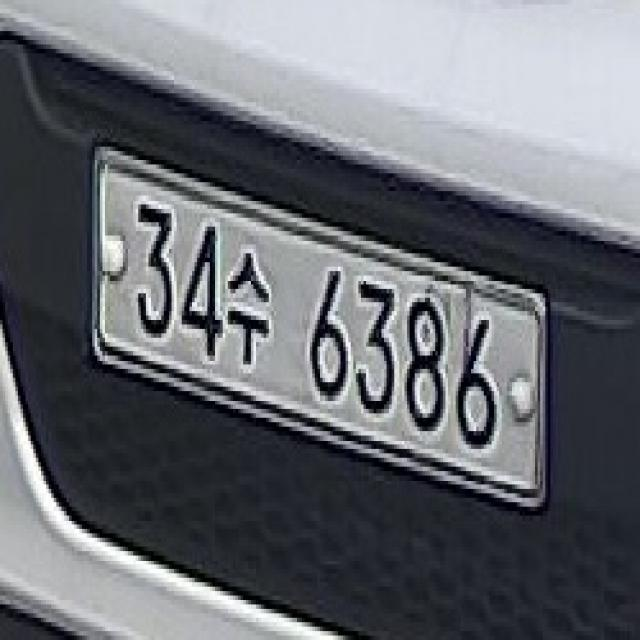3: (130, 191, 176, 342), (354, 271, 399, 422)
4: (179, 218, 225, 364)
6: (451, 315, 496, 449), (307, 262, 348, 404)
8: (402, 293, 448, 431)
license_plate: (92, 147, 545, 511)
su: (226, 244, 272, 374)
